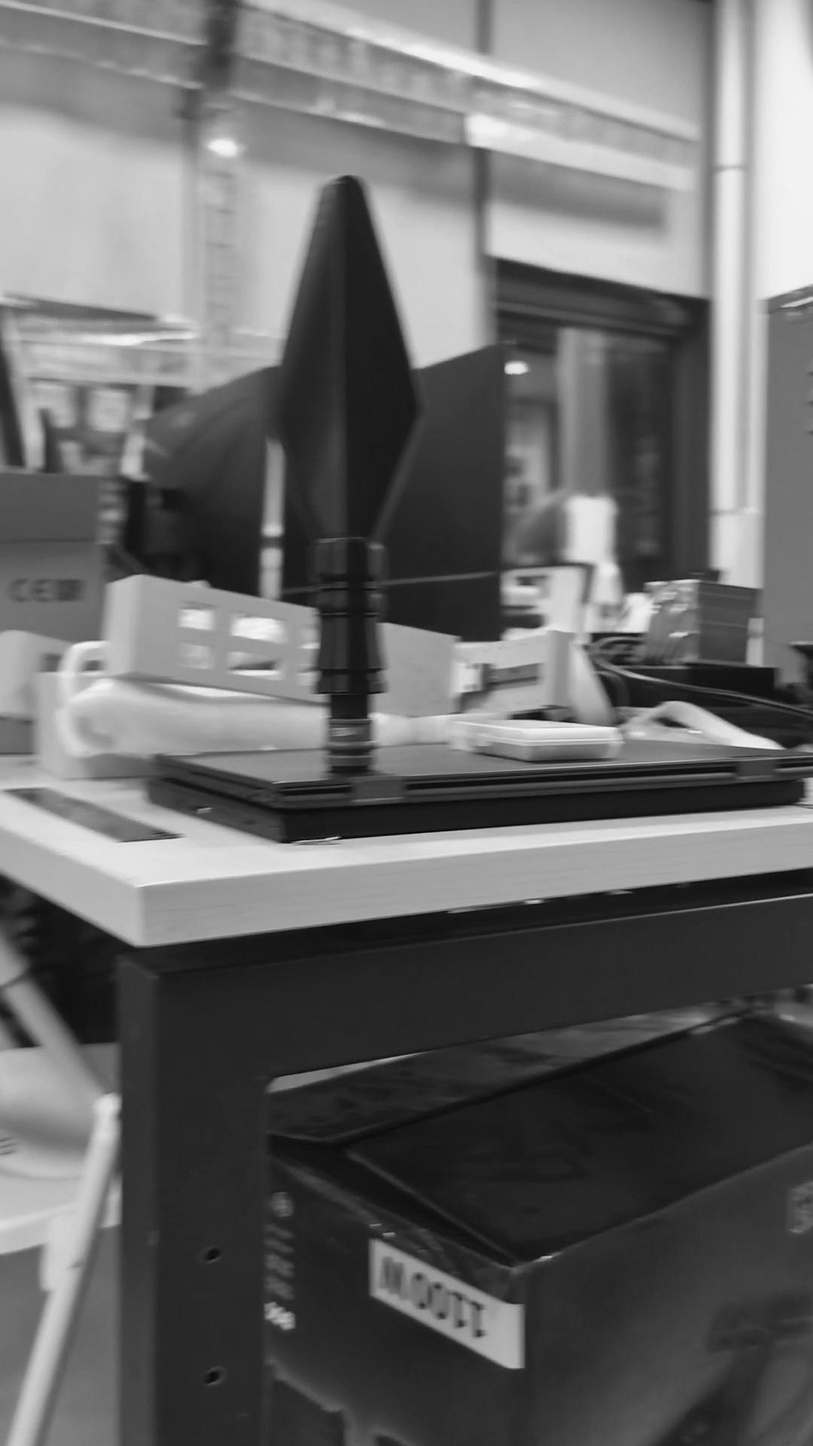base: (319, 711, 382, 788)
